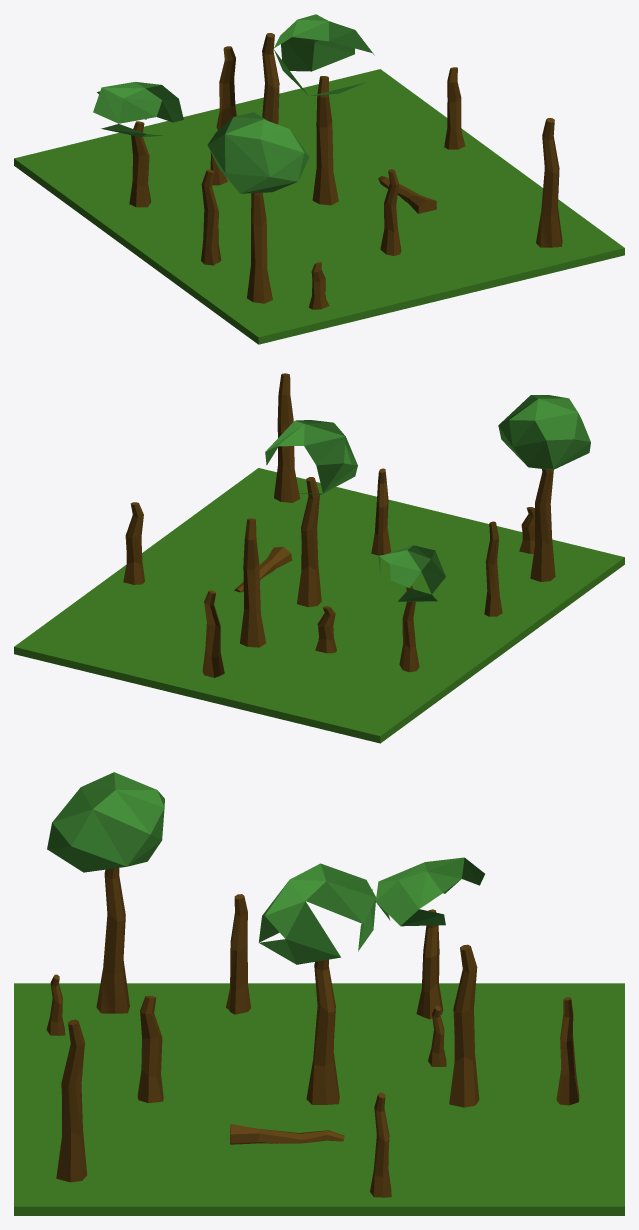
Rendered from dTy_L-TMS2z.glb.
The picture shows the model from 3 angles, top to bottom: view 1: azimuth 30°, elevation 25°; view 2: azimuth 150°, elevation 25°; view 3: azimuth 270°, elevation 25°; orthographic projection. The views are drawn at different scales.
Parts seen in each view (by area): view 1: Box001, Tron; view 2: Box001, Tron; view 3: Box001, Tron.
Part boxes in pixels (left/top/right/bottom): Box001: left=14, top=69, right=624, bottom=344; Tron: left=93, top=14, right=562, bottom=309; Box001: left=14, top=468, right=624, bottom=743; Tron: left=123, top=373, right=590, bottom=677; Box001: left=14, top=983, right=624, bottom=1215; Tron: left=46, top=772, right=579, bottom=1197.
Size of what is drawn, in the model's own units: 2.06 by 0.9999 by 2.38.
